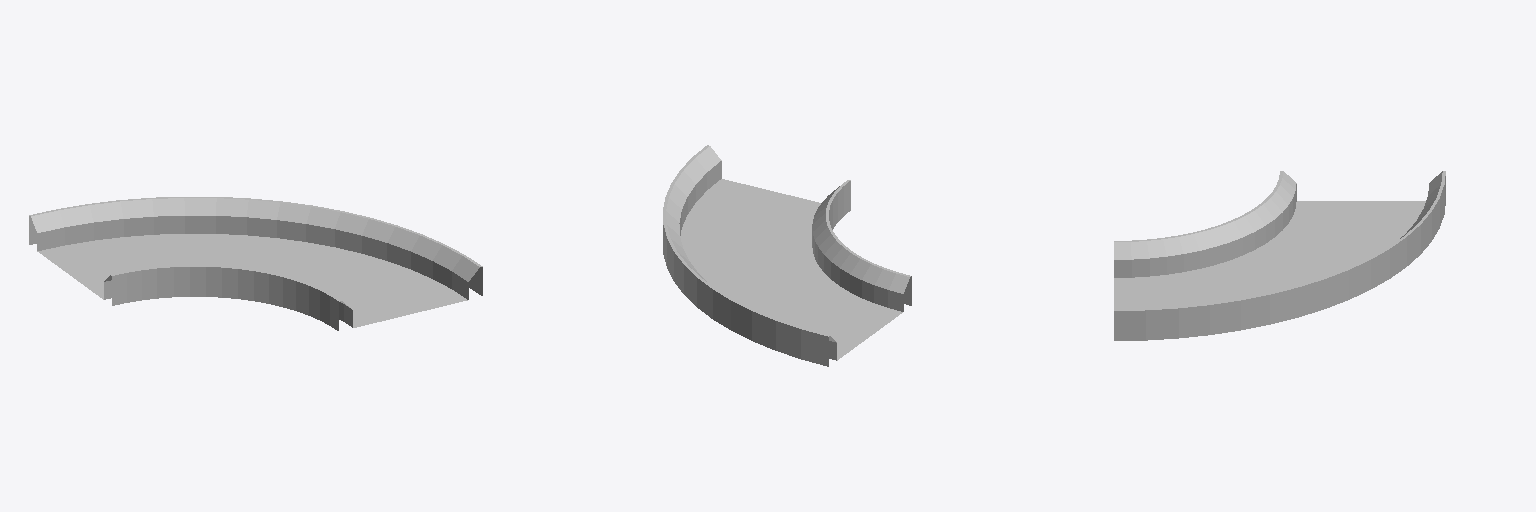
Rendered from trackpiece6.obj.
3 views of the same model, side by side, from view 1: azimuth 30°, elevation 25°; view 2: azimuth 150°, elevation 25°; view 3: azimuth 270°, elevation 25° (orthographic).
Visible parts, largest first — view 1: Plane.002_Plane.004; view 2: Plane.002_Plane.004; view 3: Plane.002_Plane.004.
Part boxes in pixels (left/top/right/bottom): Plane.002_Plane.004: left=29, top=197, right=482, bottom=330; Plane.002_Plane.004: left=663, top=145, right=911, bottom=366; Plane.002_Plane.004: left=1114, top=171, right=1445, bottom=340.
Bounding box in the file's own units: 2 × 0.2 × 2.